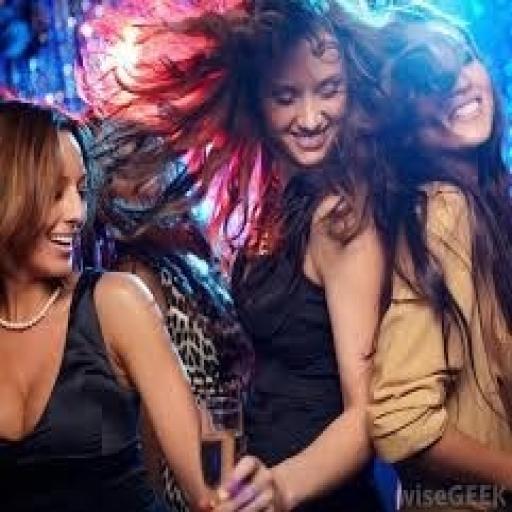dancing: (131, 35, 512, 512), (350, 0, 510, 510)
